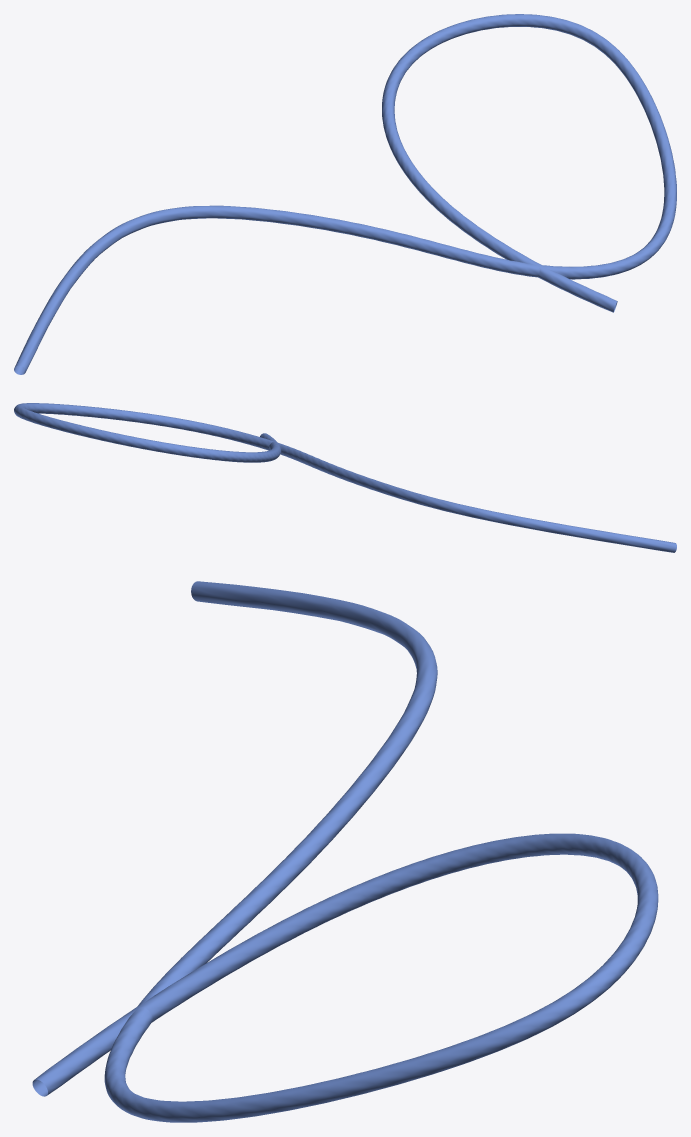
The model's file is Curve_Animation_file_CurveAnimation.fbx.
3 renders of one model, top to bottom at view 1: azimuth 30°, elevation 25°; view 2: azimuth 150°, elevation 25°; view 3: azimuth 270°, elevation 25°, orthographic. The views are drawn at different scales.
Visible parts, largest first — view 1: defaultBrush1Main; view 2: defaultBrush1Main; view 3: defaultBrush1Main.
Part boxes in pixels (x1,y1,x2,y2): defaultBrush1Main: [14, 14, 676, 374]; defaultBrush1Main: [14, 403, 676, 552]; defaultBrush1Main: [32, 581, 658, 1122].
Bounding box in the file's own units: 13.84 × 2.74 × 6.46.
